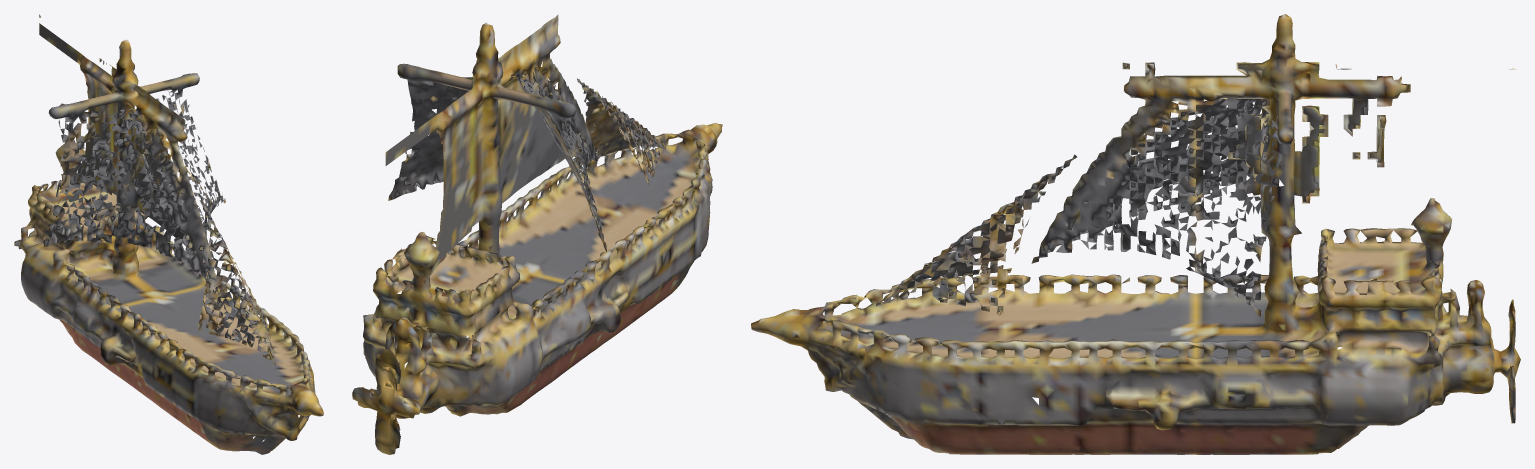
The model's file is mon3d.glb.
The picture shows the model from 3 angles, left to right: view 1: azimuth 30°, elevation 25°; view 2: azimuth 150°, elevation 25°; view 3: azimuth 270°, elevation 25°; orthographic projection. The views are drawn at different scales.
Size of the model in its own units: 0.7364 by 1.2 by 1.96.
